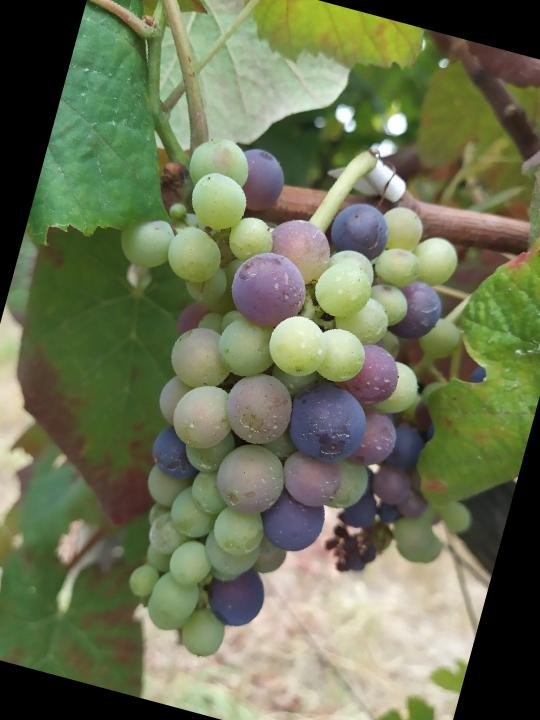grape: (17, 116, 475, 696)
